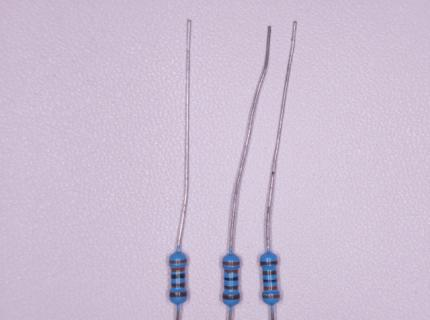Black band: (263, 278, 277, 283), (224, 276, 238, 281), (171, 274, 185, 278)
Brown band: (169, 291, 187, 297), (260, 260, 278, 265), (223, 294, 240, 299), (263, 270, 277, 275), (224, 285, 238, 290), (171, 283, 185, 287)
Orange band: (262, 294, 280, 299), (263, 285, 278, 290), (169, 259, 187, 263), (171, 267, 185, 272), (223, 261, 240, 265), (224, 269, 238, 273)
